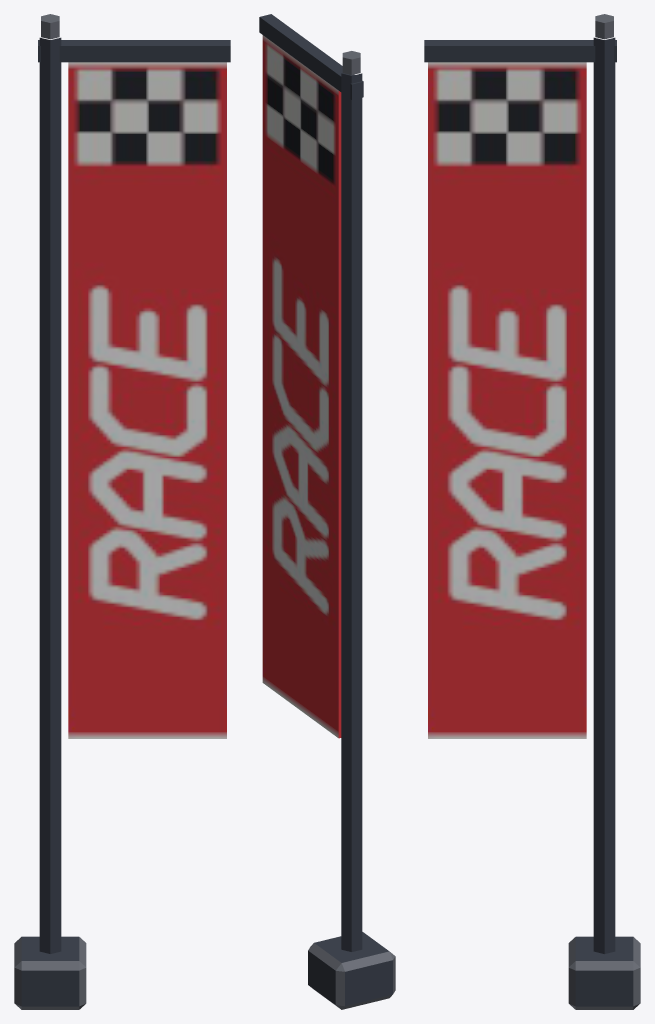
Rendered from banner.glb.
The picture shows the model from 3 angles, left to right: view 1: azimuth 90°, elevation 25°; view 2: azimuth 210°, elevation 25°; view 3: azimuth 270°, elevation 25°; orthographic projection. The views are drawn at different scales.
Parts seen in each view (by area): view 1: banner; view 2: banner; view 3: banner.
Part boxes in pixels (box(x1,y1,x2,y2)): banner: box(14, 14, 230, 1009); banner: box(259, 14, 395, 1009); banner: box(424, 14, 640, 1009).
Bounding box in the file's own units: 0.4 × 6 × 1.2.
1 material, 1 textured.
